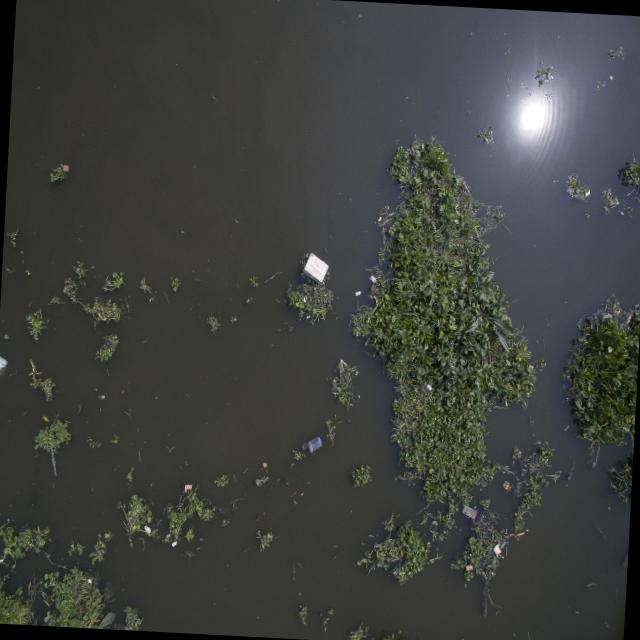Plastic: (300, 242, 332, 284), (304, 432, 327, 453), (458, 502, 480, 519), (0, 353, 9, 378), (368, 273, 379, 284), (354, 288, 362, 298), (144, 526, 152, 534), (185, 484, 192, 492), (171, 540, 178, 548), (200, 537, 204, 544)
